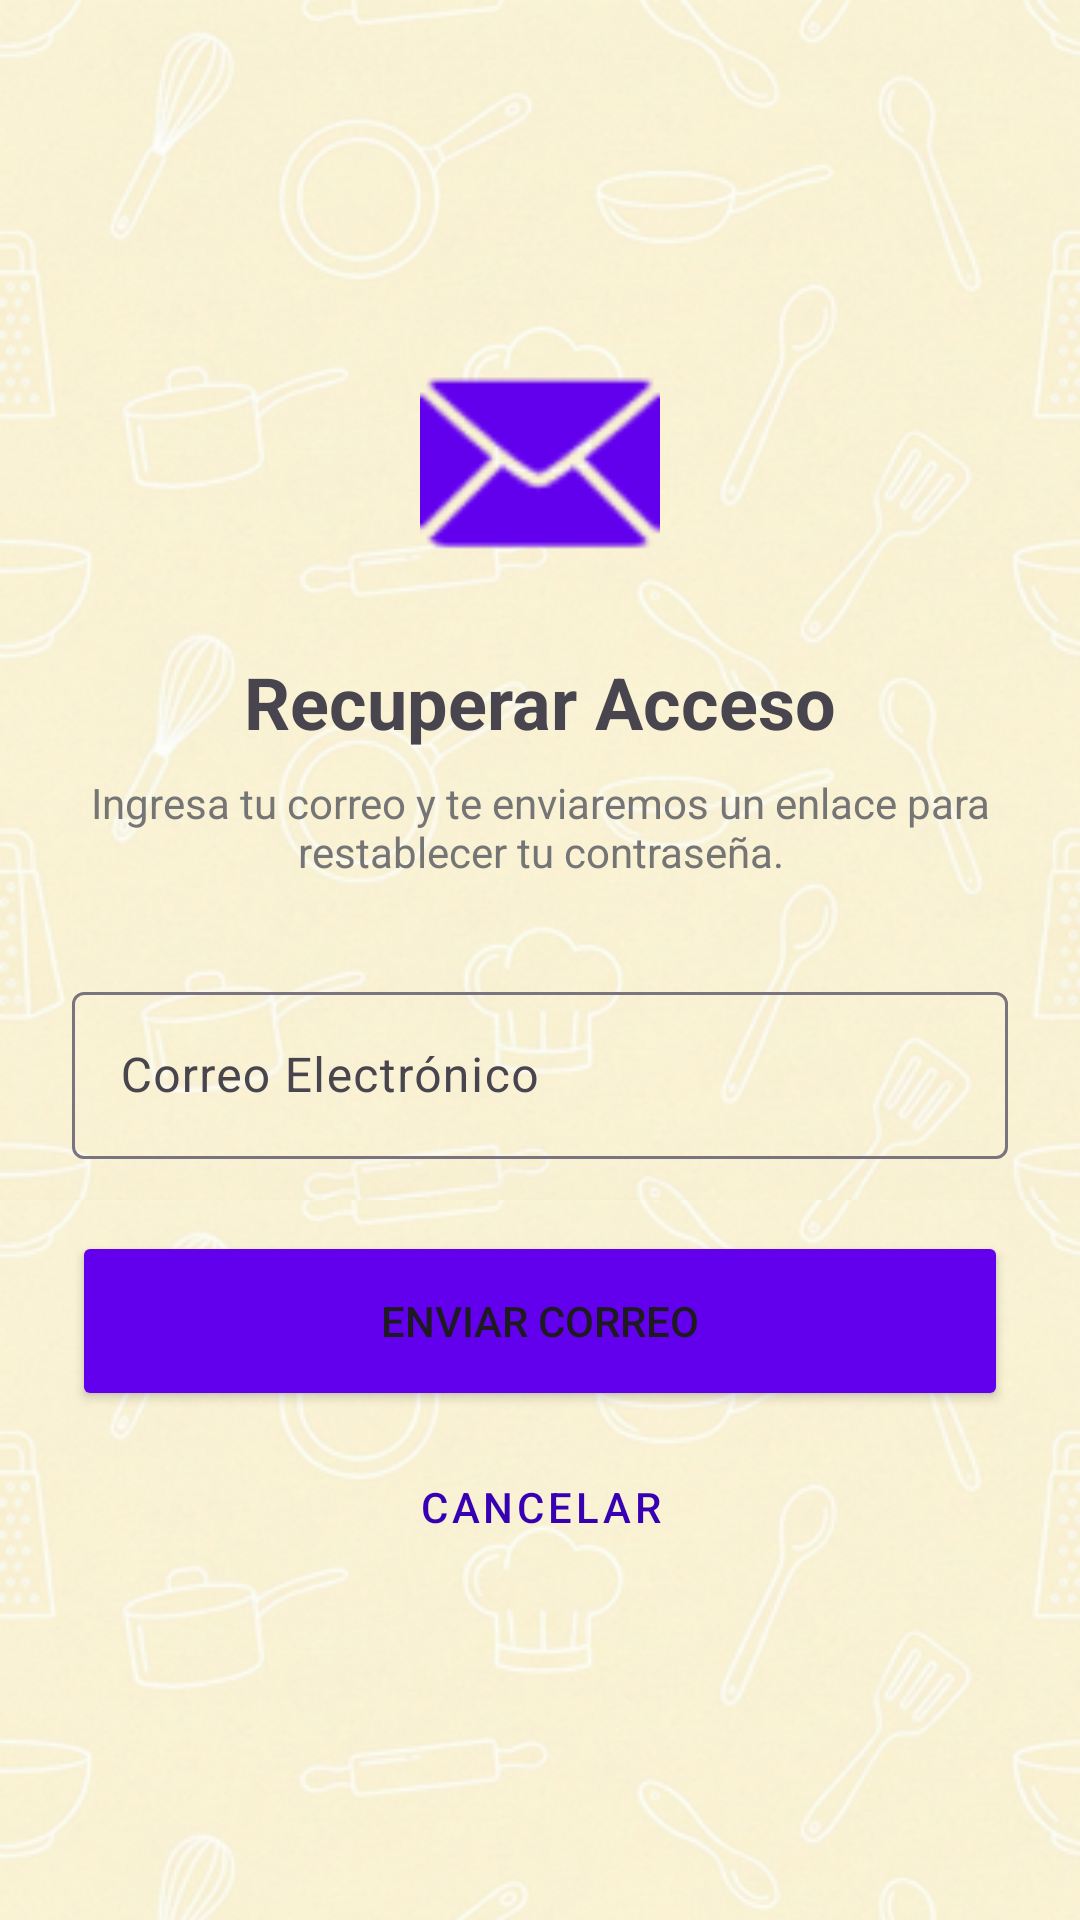

Point at icon controls on the screen. Image size 1080w x 1920h, points as (x=x, y=y).
email: (x=540, y=462)
